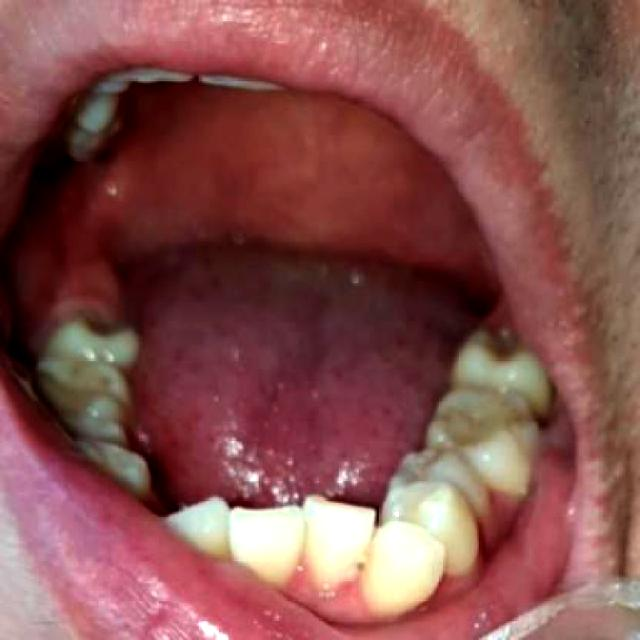Plaque: (280, 551, 373, 633)
